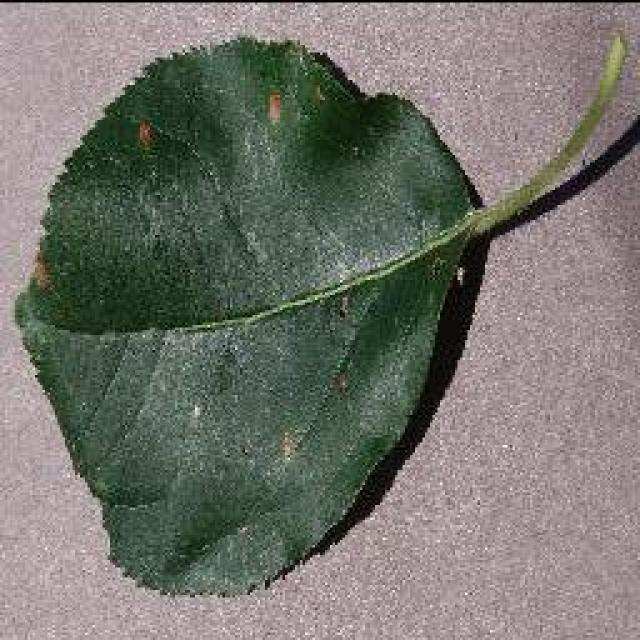Black_rot: (10, 28, 638, 598)
